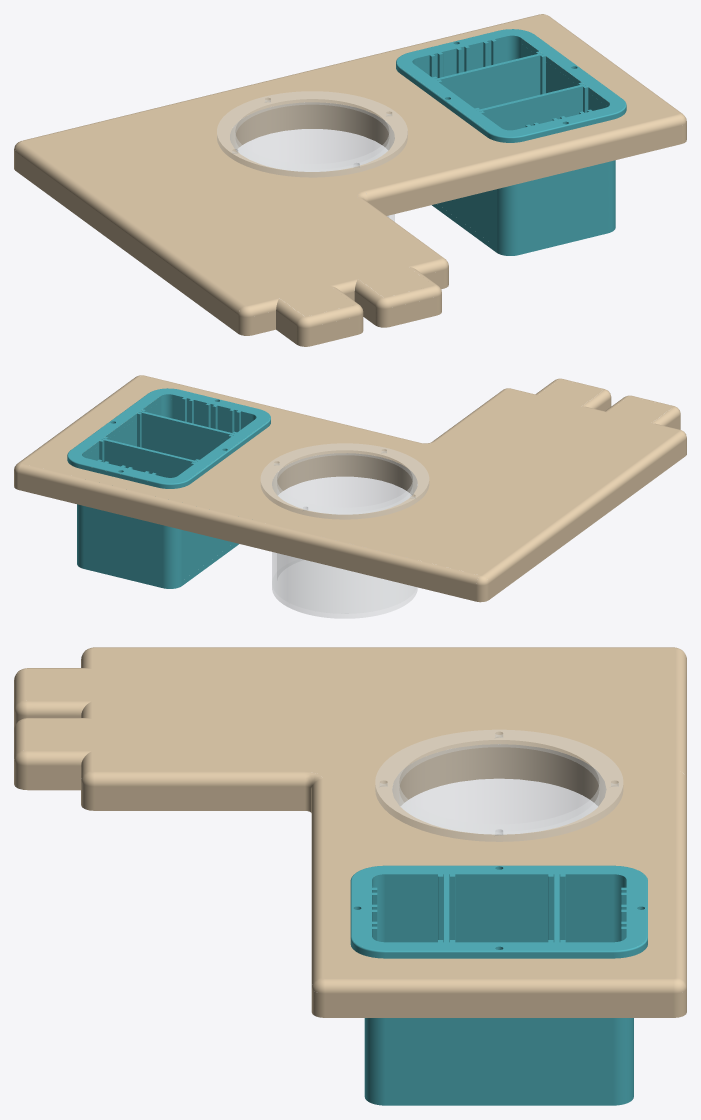
The model's file is ergoflex-side-shelf-small-cubby.glb.
3 renders of one model, top to bottom at view 1: azimuth 30°, elevation 25°; view 2: azimuth 150°, elevation 25°; view 3: azimuth 270°, elevation 25°, orthographic. The views are drawn at different scales.
Visible parts, largest first — view 1: Side shelf wood, Side shelf print, Side shelf acrylic; view 2: Side shelf wood, Side shelf print, Side shelf acrylic; view 3: Side shelf wood, Side shelf print, Side shelf acrylic.
Part boxes in pixels (bbox=[...]): Side shelf wood: bbox=[14, 14, 686, 346]; Side shelf print: bbox=[396, 29, 626, 255]; Side shelf acrylic: bbox=[217, 91, 407, 221]; Side shelf wood: bbox=[14, 375, 686, 602]; Side shelf print: bbox=[67, 388, 270, 588]; Side shelf acrylic: bbox=[261, 443, 428, 618]; Side shelf wood: bbox=[14, 647, 686, 1017]; Side shelf print: bbox=[350, 865, 647, 1105]; Side shelf acrylic: bbox=[375, 730, 622, 841].
Bounding box in the file's own units: 0.381 × 0.0838 × 0.3188.
